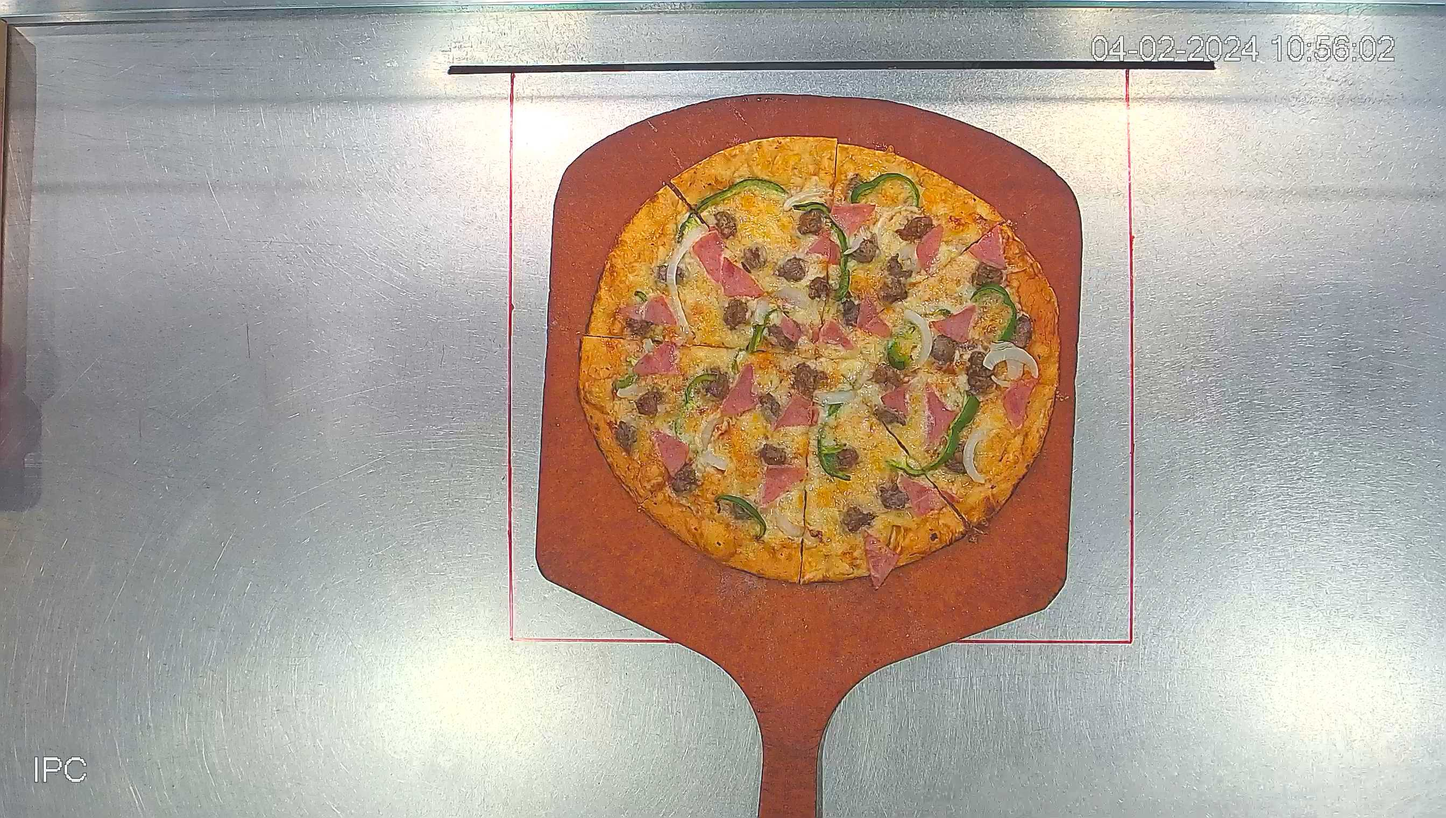hawaiian: (576, 135, 1060, 590)
